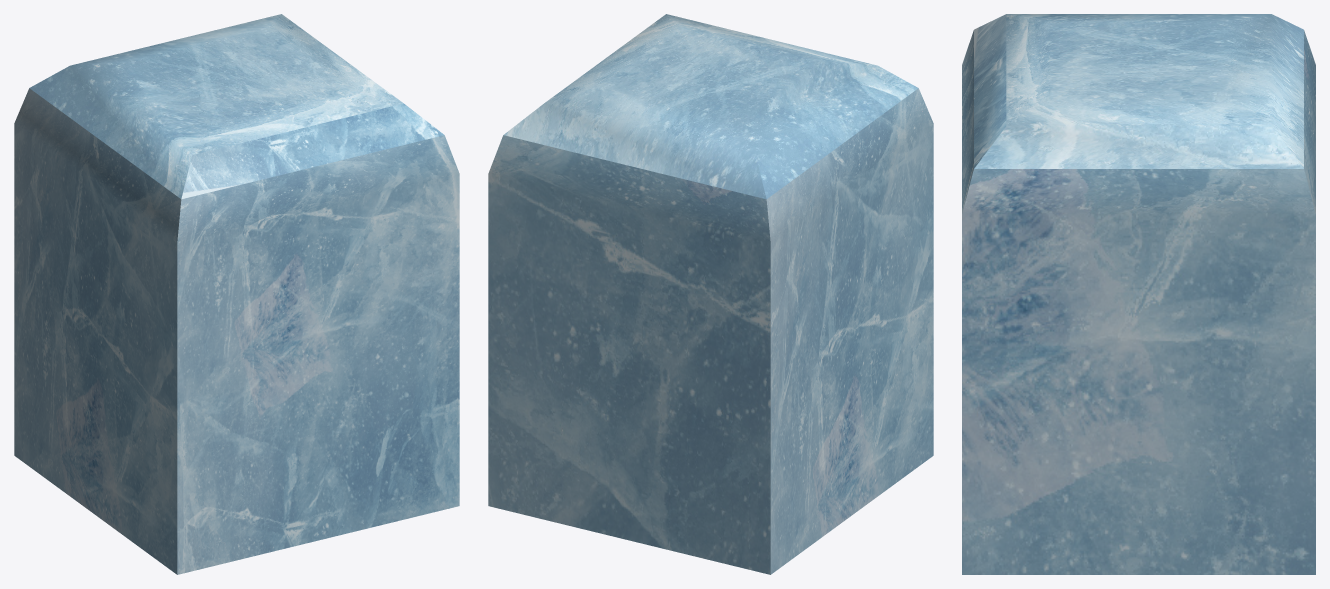
Rendered from Puzzle_Cover.fbx.
3 views of the same model, side by side, from view 1: azimuth 30°, elevation 25°; view 2: azimuth 150°, elevation 25°; view 3: azimuth 270°, elevation 25° (orthographic). The views are drawn at different scales.
Parts seen in each view (by area): view 1: pCube3; view 2: pCube3; view 3: pCube3.
Boxes of the visible parts, left/top/right/bottom form: pCube3: left=14, top=14, right=459, bottom=574; pCube3: left=488, top=14, right=933, bottom=574; pCube3: left=962, top=14, right=1315, bottom=574.
Size of the model in its own units: 3.78 by 5.2 by 3.78.
Materials: 1 (1 with a texture image).
